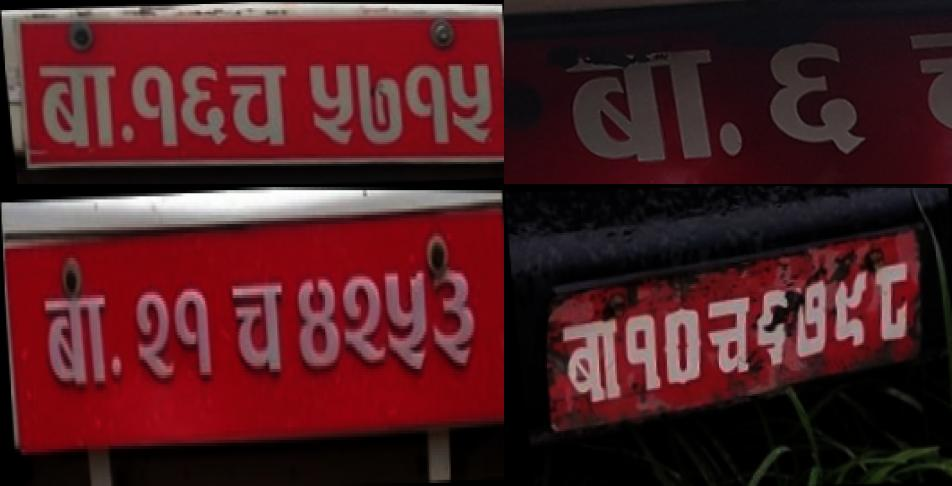0: (654, 306, 706, 392)
1: (170, 275, 218, 390), (123, 56, 180, 150), (396, 57, 452, 149), (617, 311, 664, 400)
2: (335, 262, 388, 382), (128, 281, 175, 386)
3: (426, 257, 480, 374)
4: (290, 264, 343, 382)
5: (378, 256, 432, 377), (299, 56, 356, 148), (445, 55, 497, 149)
6: (750, 32, 879, 166), (171, 58, 229, 153), (748, 288, 795, 374)
7: (348, 56, 405, 151), (786, 280, 831, 360)
8: (870, 260, 916, 346)
9: (825, 265, 876, 358)
ba: (546, 41, 750, 169), (36, 277, 114, 404), (27, 56, 123, 155), (552, 315, 626, 407)
cha: (221, 268, 291, 386), (898, 18, 952, 162), (218, 56, 294, 151), (699, 294, 757, 389)
